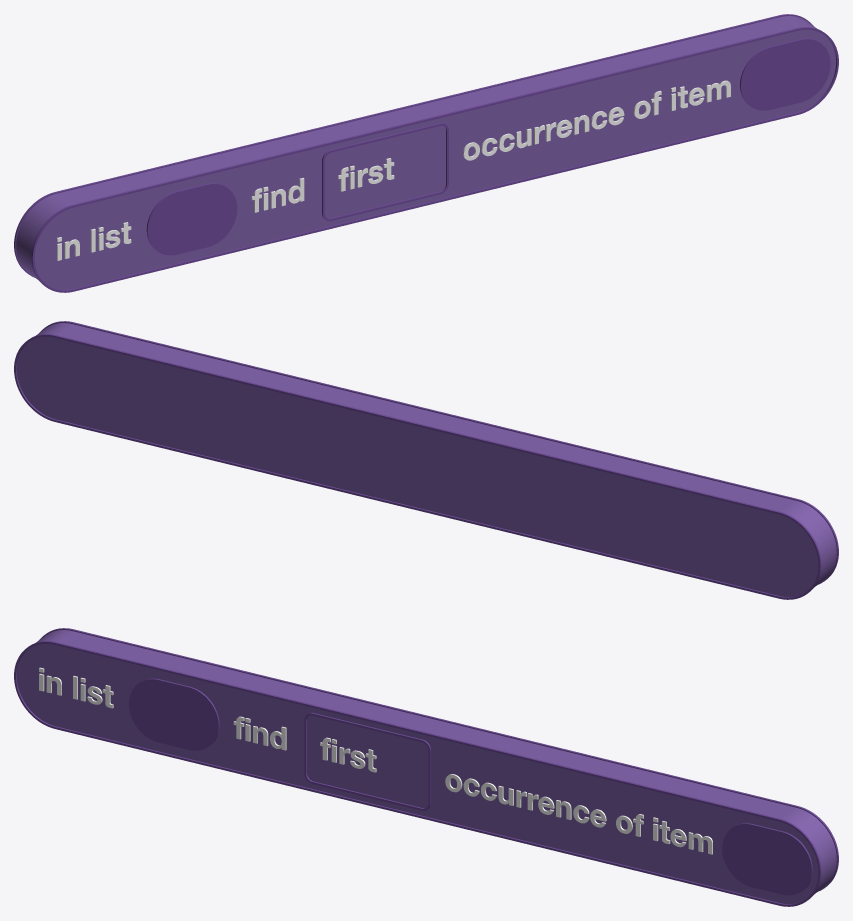
Rendered from lists_indexOf.gltf.
3 renders of one model, top to bottom at view 1: azimuth 30°, elevation 25°; view 2: azimuth 150°, elevation 25°; view 3: azimuth 330°, elevation 25°, orthographic.
Visible parts, largest first — view 1: Extrude.25, Extrude.24, Extrude.1, Extrude, Extrude.35, Extrude.34; view 2: Extrude.25, Extrude.35, Extrude.24; view 3: Extrude.25, Extrude.24, Extrude, Extrude.1, Extrude.35, Extrude.34.
Boxes of the visible parts, <box> form: Extrude.25: <box>16,16,836,289</box>; Extrude.24: <box>31,27,838,292</box>; Extrude.1: <box>146,183,237,255</box>; Extrude: <box>740,38,830,110</box>; Extrude.35: <box>14,14,813,277</box>; Extrude.34: <box>322,123,448,221</box>; Extrude.25: <box>16,323,836,597</box>; Extrude.35: <box>14,334,821,599</box>; Extrude.24: <box>39,321,838,584</box>; Extrude.25: <box>16,630,836,903</box>; Extrude.24: <box>14,641,821,906</box>; Extrude: <box>722,823,812,895</box>; Extrude.1: <box>129,678,219,750</box>; Extrude.35: <box>39,628,838,891</box>; Extrude.34: <box>304,712,430,810</box>.
Bounding box in the file's own units: 1.93 × 0.197 × 0.0777.
